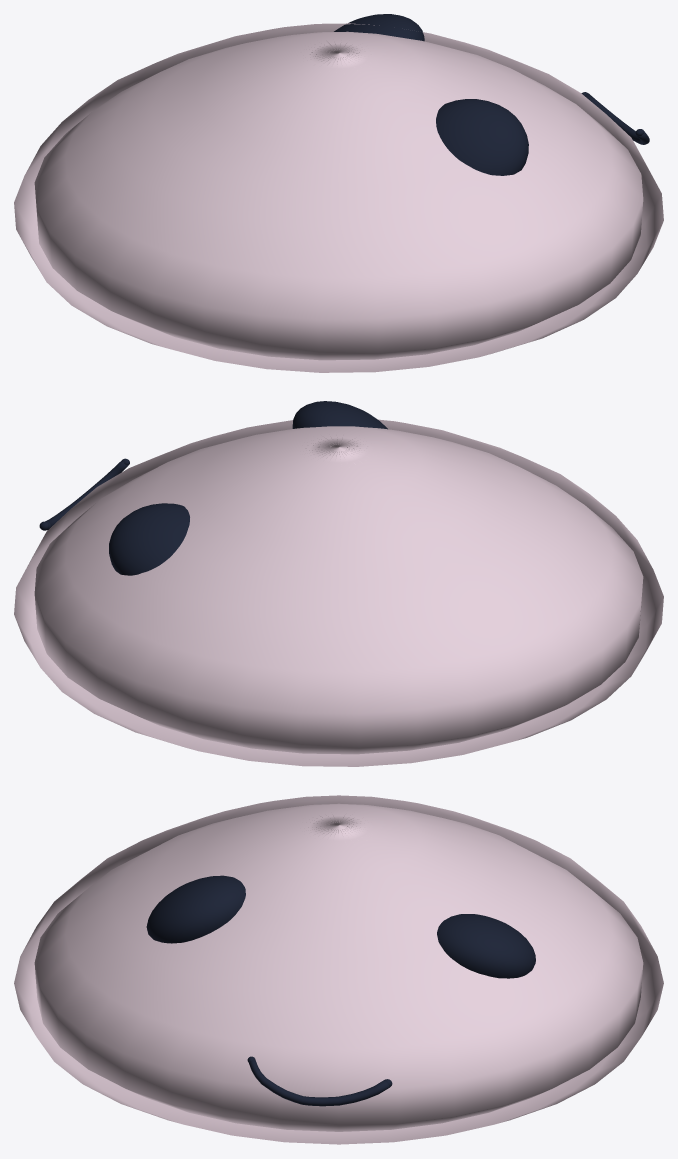
Rendered from SlimePlainWhite.glb.
3 renders of one model, top to bottom at view 1: azimuth 30°, elevation 25°; view 2: azimuth 150°, elevation 25°; view 3: azimuth 270°, elevation 25°, orthographic.
Parts seen in each view (by area): view 1: InnerSkin; view 2: InnerSkin; view 3: InnerSkin.
Part boxes in pixels (<box>): InnerSkin: <box>14,14,663,372</box>; InnerSkin: <box>14,401,663,766</box>; InnerSkin: <box>14,795,663,1144</box>.
Size of the model in its own units: 0.8942 by 0.3098 by 0.8899.
